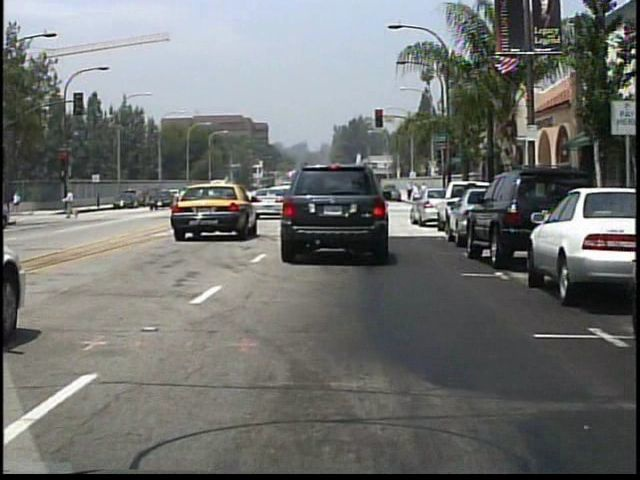person: (406, 182, 426, 215), (65, 186, 79, 221), (11, 189, 23, 215)
